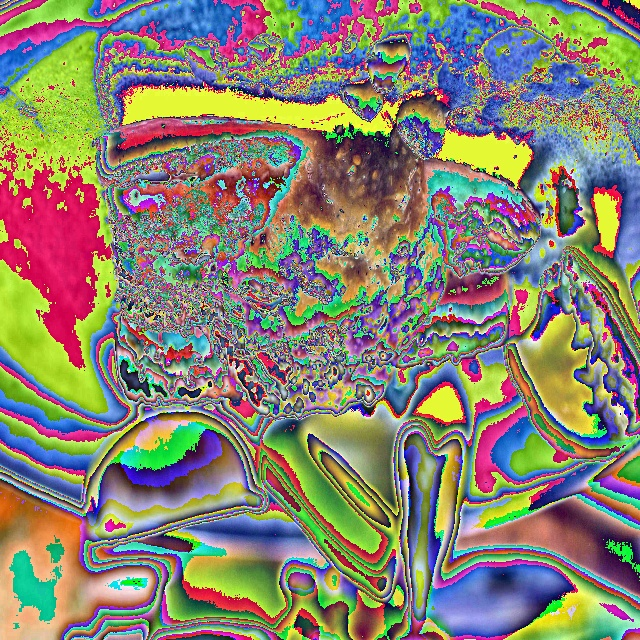background: (81, 97, 639, 632)
